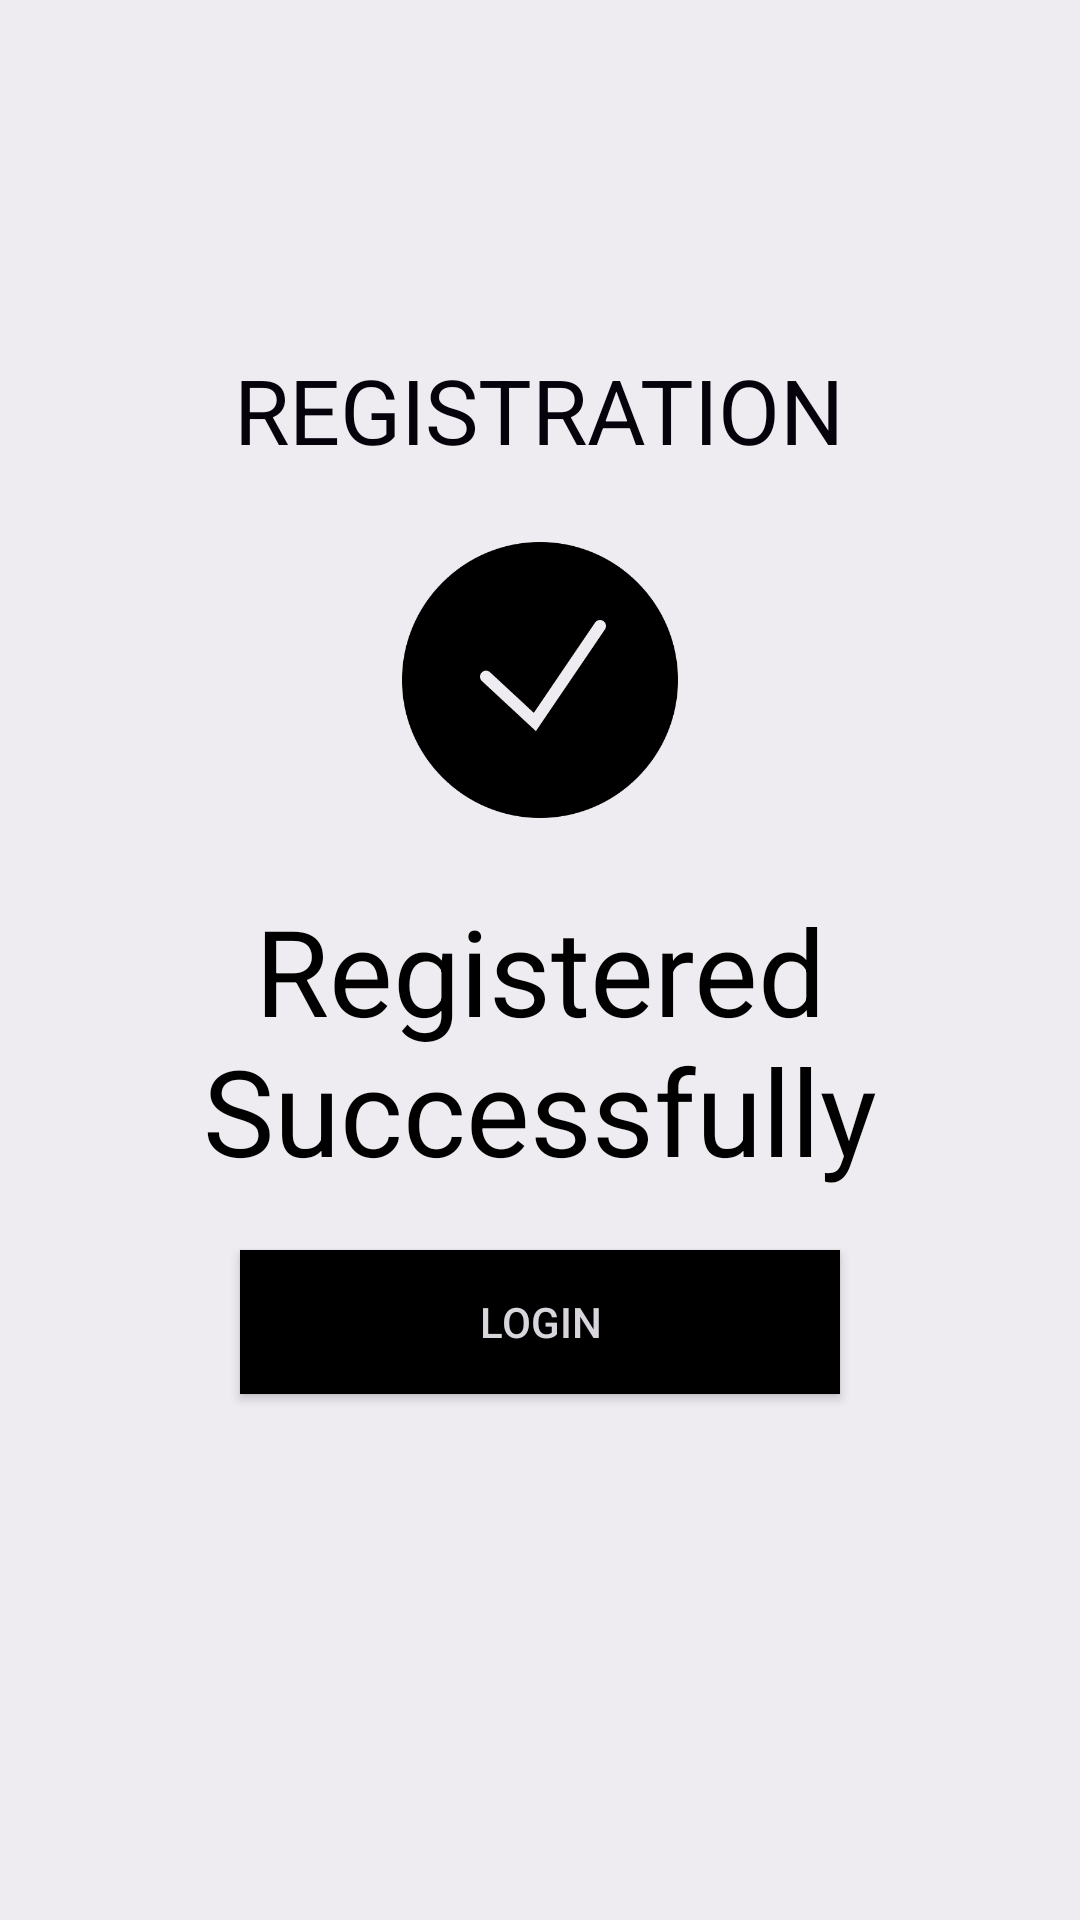

Locate icon controls on the screen. Image size 1080w x 1920h, boxes as (x1, y1, x2, y2).
password updated: (402, 542, 678, 818)
